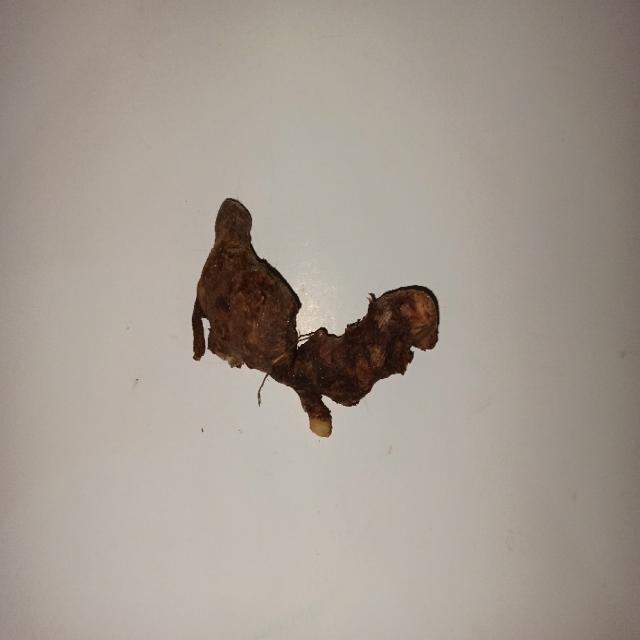ginger: (200, 202, 438, 408)
